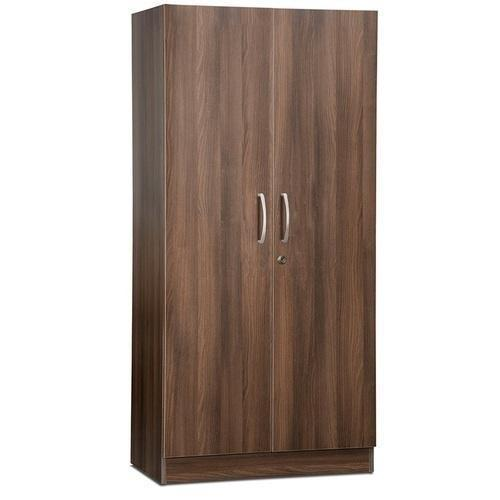Armario: (129, 9, 381, 479)
